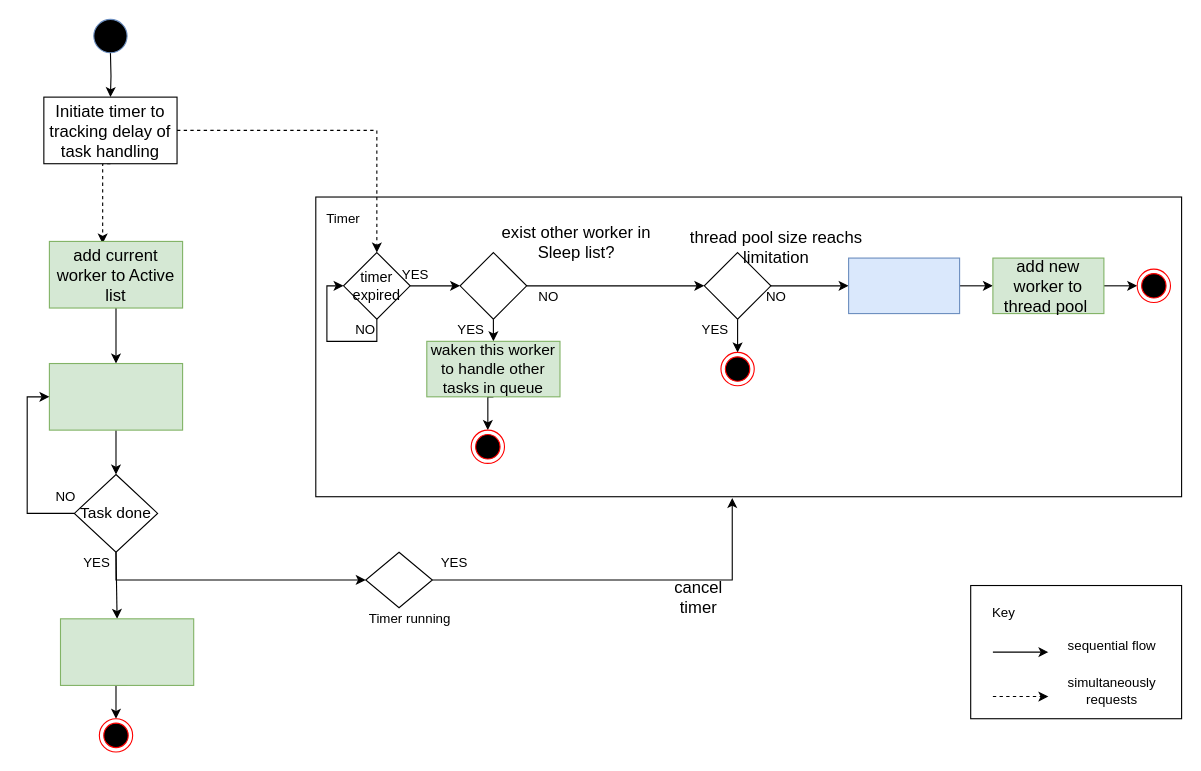
The diagram is 1201 pixels wide and 771 high, and some of its shapes have lost their labels. Here are the shapes that lost their labels. From the top down, the box of each, then its label:
(847, 257, 960, 314): create new worker thread
(48, 362, 183, 430): process task
(59, 618, 194, 685): remove current worker from Active list
